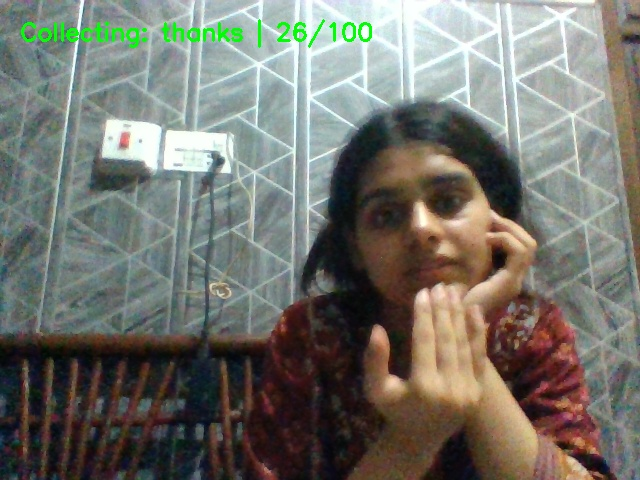thanks: (350, 277, 521, 464)
